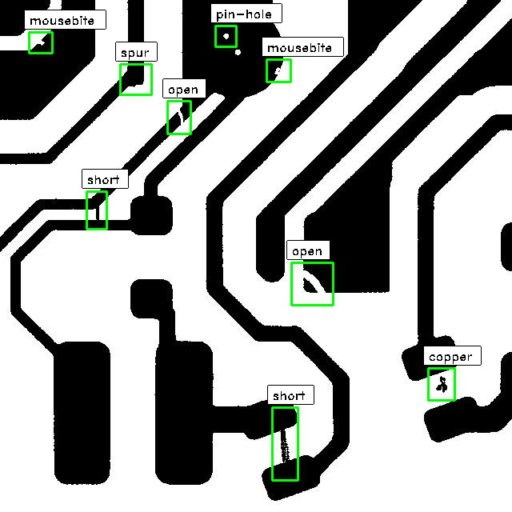copper: (428, 368, 454, 400)
mousebite: (266, 59, 290, 82), (29, 32, 52, 53)
open: (291, 262, 333, 305), (167, 101, 190, 134)
pin-hole: (215, 26, 236, 46)
short: (272, 407, 298, 480), (86, 191, 106, 229)
spur: (120, 64, 151, 94)
